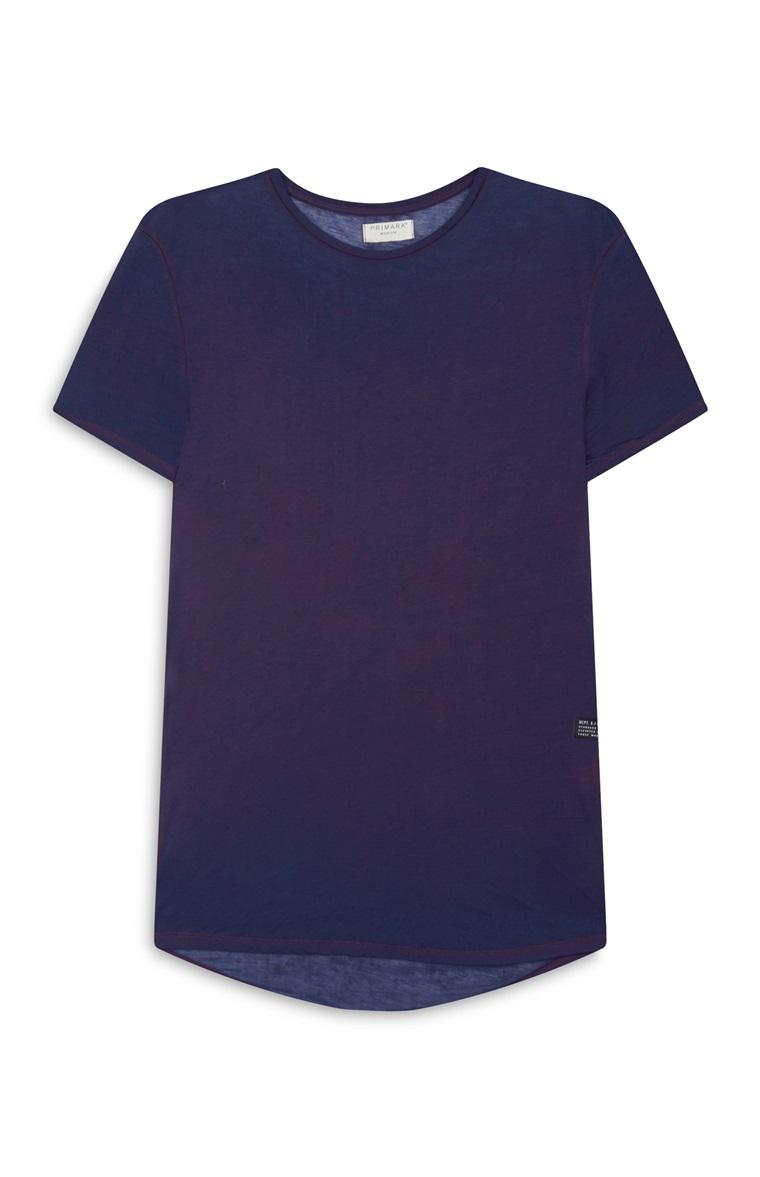teeshirt: (36, 136, 713, 995)
